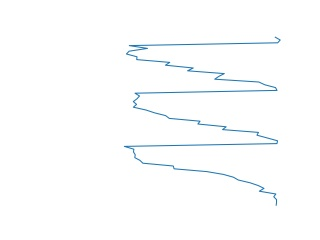distributaryMouthBar: (123, 34, 285, 207)
